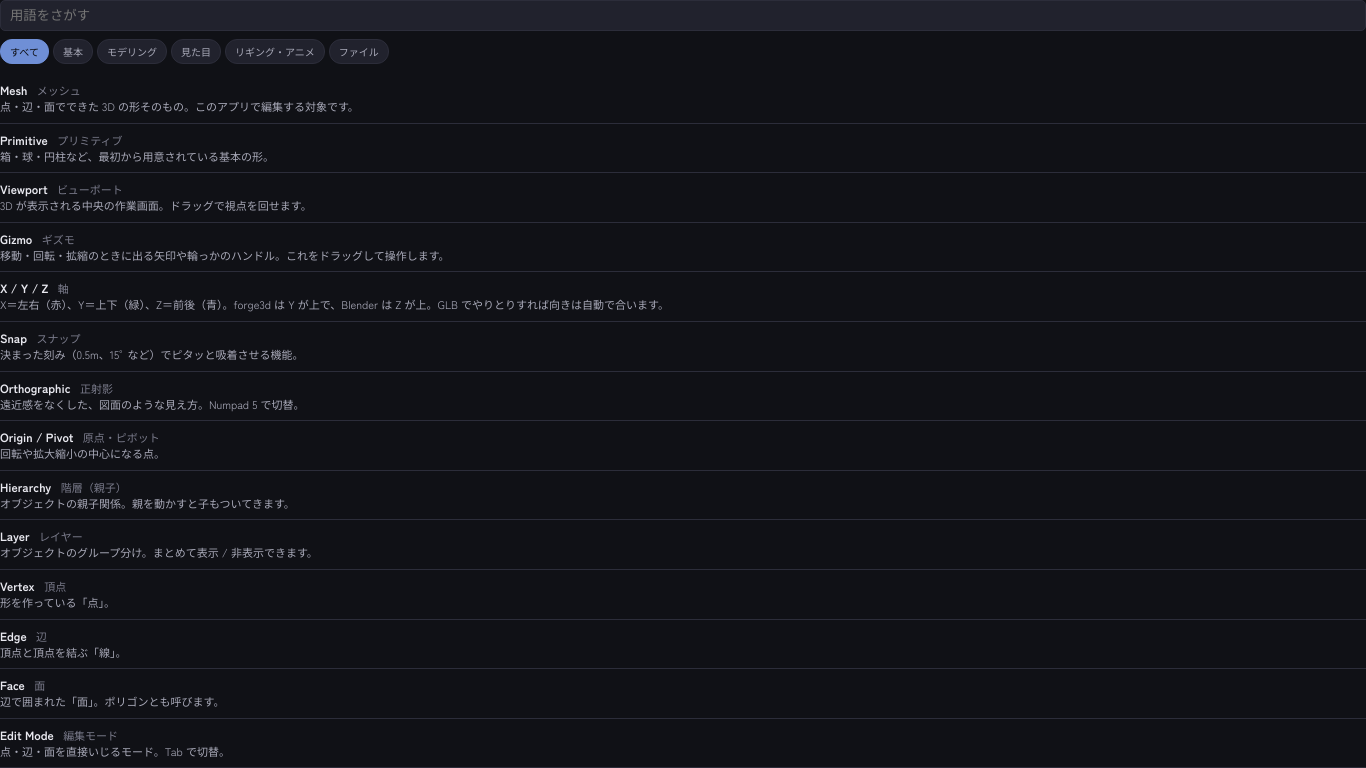
Glossary › on screen: search, category, and nothing found
Type "ボーン" into the search field labelled "用語をさがす" at (683, 16), box [0,0,1365,31]
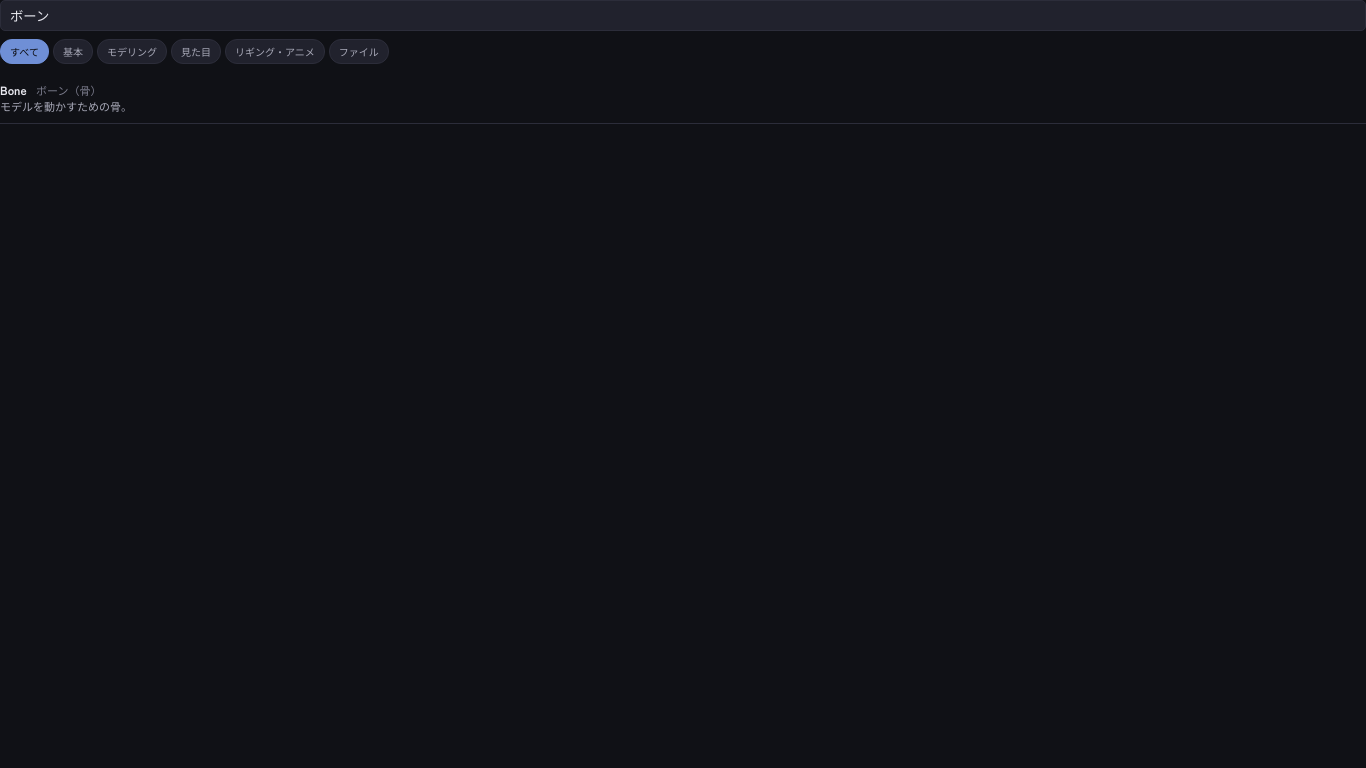
Check: the text "Bone" is shown, box [0,81,27,98]
Check: the text "Albedo" is not shown
Clear the search field named "用語をさがす" at (683, 16), box [0,0,1365,31]
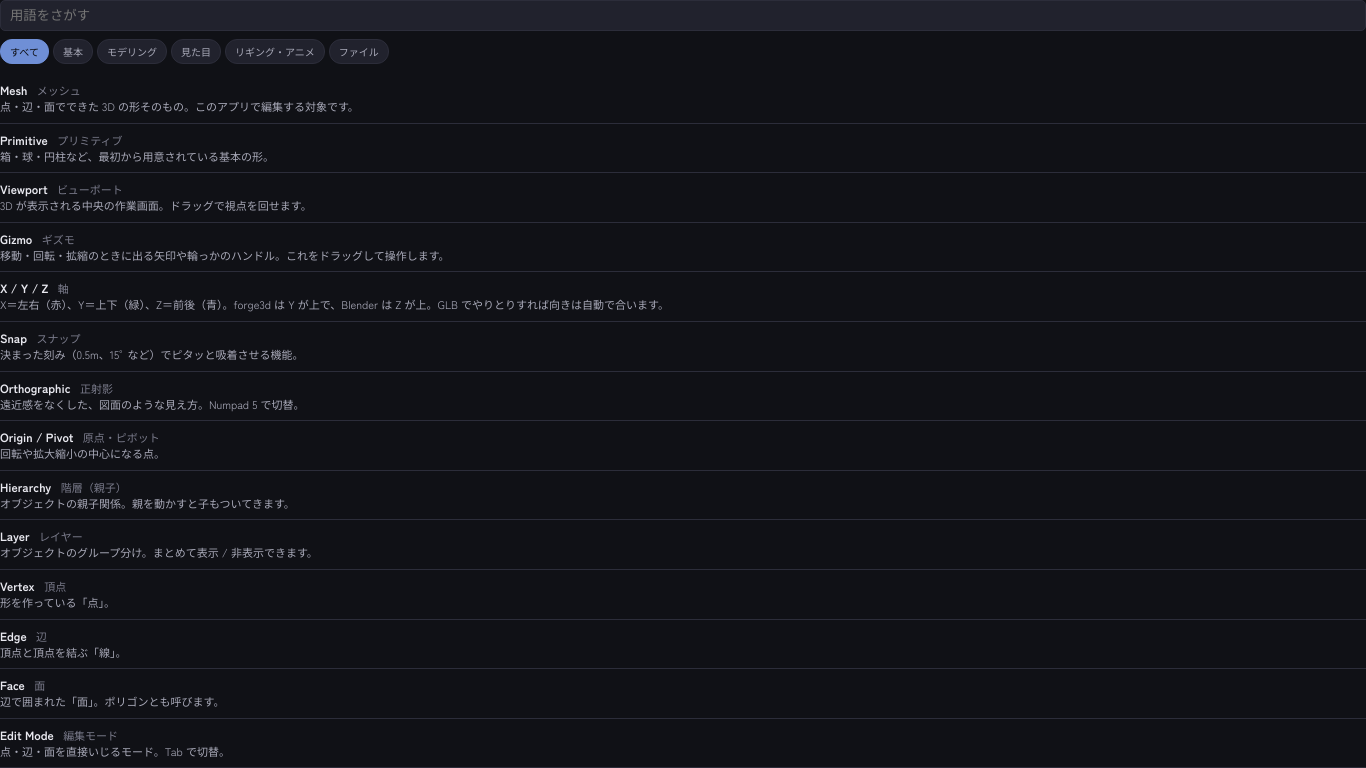
Click the button "見た目" at (196, 52), box [171,39,221,64]
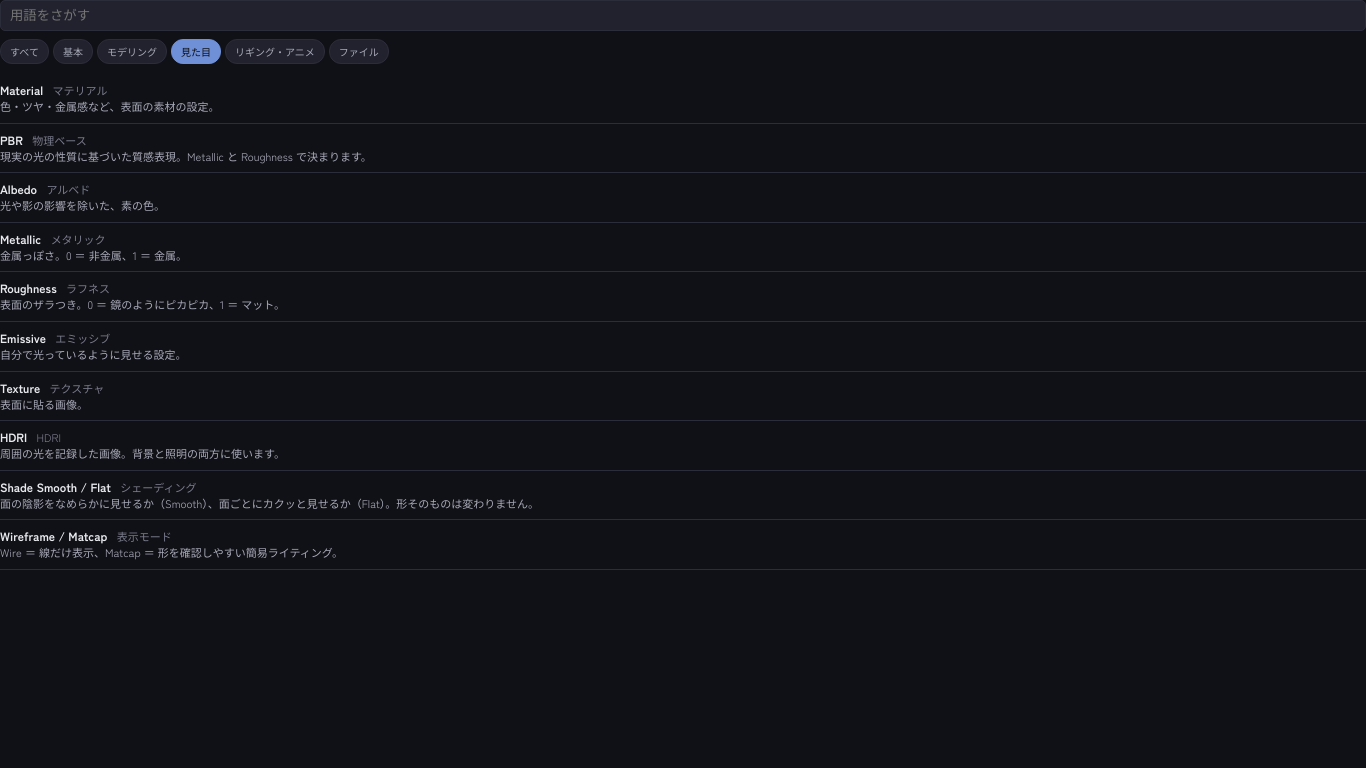
Check: the text "Bone" is not shown
Check: the text "Albedo" is shown, box [0,180,37,197]
Type "zzz" into the search field labelled "用語をさがす" at (683, 16), box [0,0,1365,31]
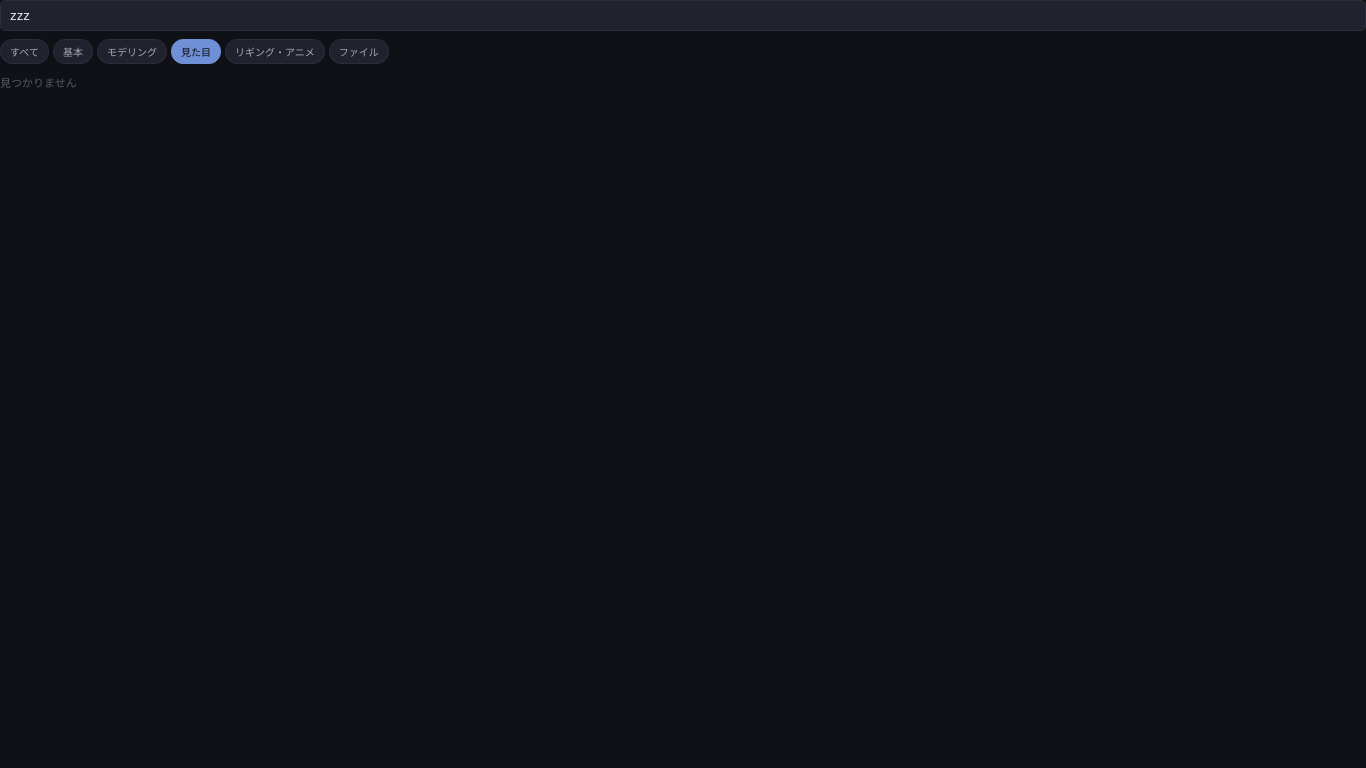
Check: the text "見つかりません" is shown, box [0,74,77,90]
